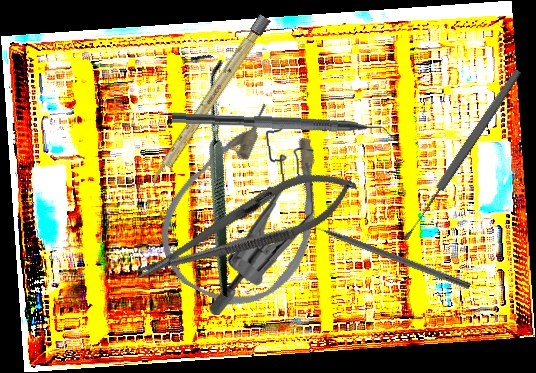Cannula: (140, 86, 358, 327)
Chopper: (171, 112, 402, 147)
Hook Surgical: (104, 47, 318, 298), (298, 216, 472, 291)
Needle Holder: (126, 154, 365, 300)
Scalpel Handle: (147, 14, 271, 189)
Speculum: (200, 120, 323, 315)
Surgical Spoon: (399, 67, 524, 243)
